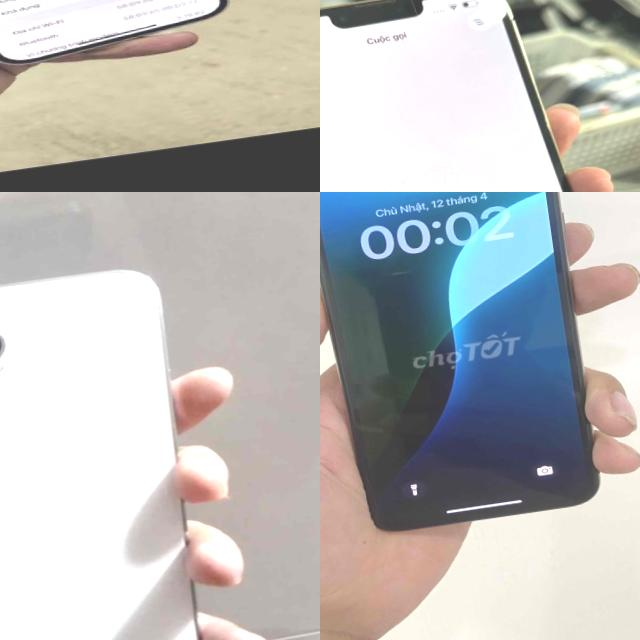gen_12_13: (0, 254, 231, 640), (320, 0, 638, 192)
gen_14: (0, 0, 241, 85)
gen_x_xs: (320, 192, 599, 531)
